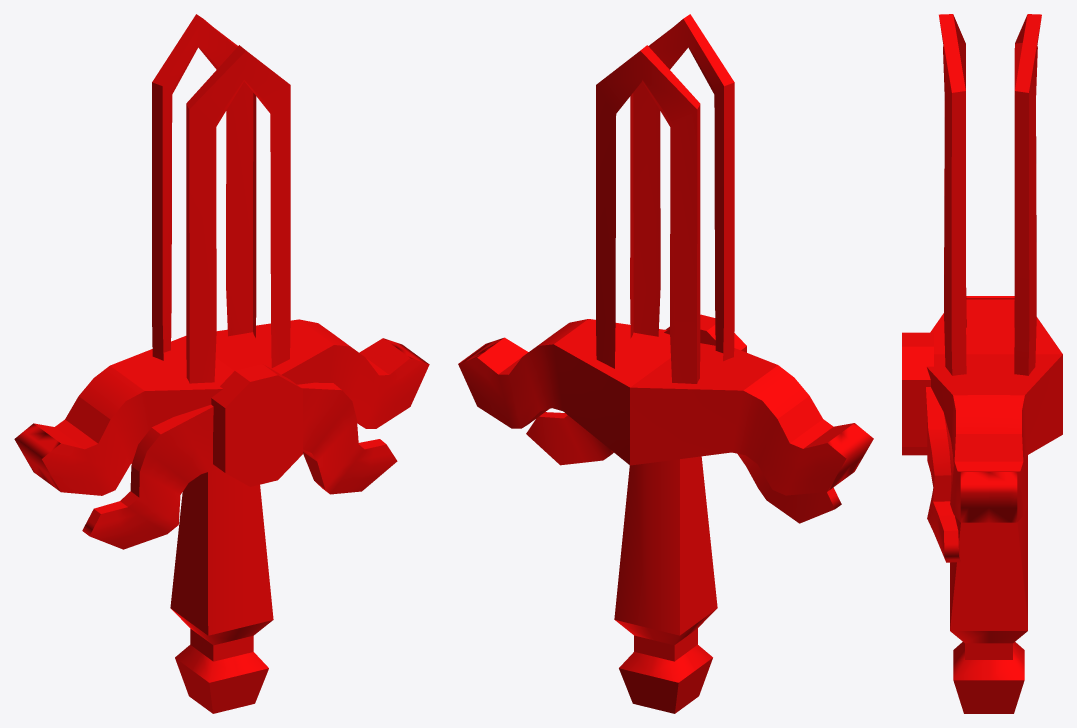
Rendered from str_handle.fbx.
3 renders of one model, left to right at view 1: azimuth 30°, elevation 25°; view 2: azimuth 150°, elevation 25°; view 3: azimuth 270°, elevation 25°, orthographic. The views are drawn at different scales.
Parts seen in each view (by area): view 1: str_handle19; view 2: str_handle19; view 3: str_handle19.
Part boxes in pixels (bbox=[...]): str_handle19: bbox=[14, 14, 429, 713]; str_handle19: bbox=[458, 14, 873, 713]; str_handle19: bbox=[902, 14, 1062, 713].
Size of the model in its own units: 38.37 by 63.12 by 13.35.
